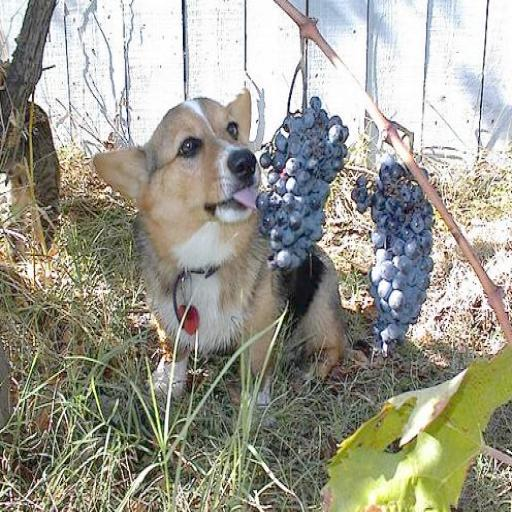dog_face: (101, 93, 270, 228)
